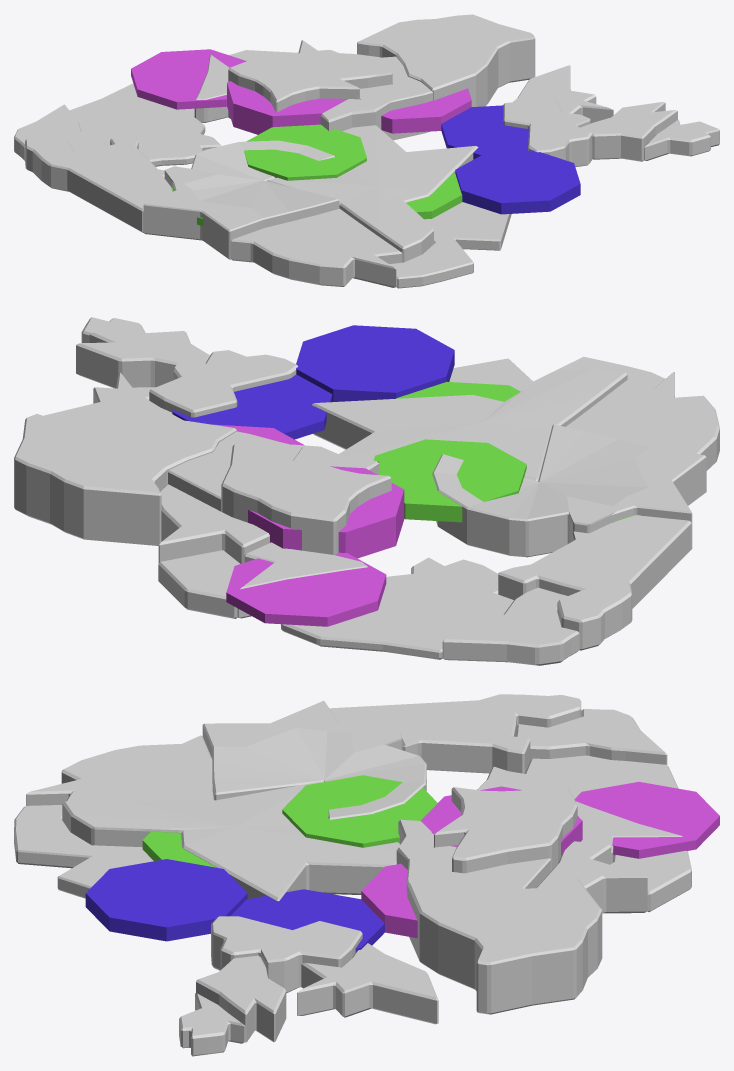
File: world_bev.glb
The picture shows the model from 3 angles, top to bottom: view 1: azimuth 30°, elevation 25°; view 2: azimuth 150°, elevation 25°; view 3: azimuth 270°, elevation 25°; orthographic projection. The views are drawn at different scales.
Visible parts, largest first — view 1: Plane.002, Plane.009, Plane.003, Plane.005, Plane.008, Cylinder.005, Plane.001, Plane.013, Plane.004, Cylinder.003, Cylinder.007, Plane.016 (+10 smaller); view 2: Plane.002, Plane.009, Plane.003, Plane.008, Plane.001, Plane.013, Cylinder.005, Cylinder.007, Plane.005, Cylinder.003, Plane.007, Plane.016 (+12 smaller); view 3: Plane.009, Plane.003, Plane.002, Plane.008, Cylinder.005, Plane.013, Plane.005, Plane.015, Plane.016, Cylinder.003, Cylinder.007, Plane.004 (+12 smaller).
Part boxes in pixels (left/top/right/bottom): Plane.002: left=143, top=140, right=339, bottom=259; Plane.009: left=357, top=14, right=535, bottom=106; Plane.003: left=266, top=125, right=478, bottom=262; Plane.005: left=230, top=208, right=402, bottom=287; Plane.008: left=25, top=135, right=172, bottom=232; Cylinder.005: left=455, top=150, right=580, bottom=214; Plane.001: left=69, top=83, right=221, bottom=166; Plane.013: left=228, top=50, right=392, bottom=118; Plane.004: left=389, top=202, right=511, bottom=288; Cylinder.003: left=244, top=124, right=366, bottom=180; Cylinder.007: left=131, top=49, right=246, bottom=109; Plane.016: left=503, top=99, right=592, bottom=167; Plane.002: left=432, top=424, right=706, bottom=557; Plane.009: left=14, top=413, right=236, bottom=545; Plane.003: left=311, top=369, right=627, bottom=481; Plane.008: left=498, top=515, right=691, bottom=650; Plane.001: left=281, top=557, right=513, bottom=659; Plane.013: left=221, top=440, right=391, bottom=554; Cylinder.005: left=296, top=325, right=454, bottom=401; Cylinder.007: left=226, top=552, right=386, bottom=626; Plane.005: left=566, top=372, right=719, bottom=470; Cylinder.003: left=373, top=439, right=526, bottom=522; Plane.007: left=442, top=587, right=579, bottom=665; Plane.016: left=149, top=350, right=298, bottom=417; Plane.009: left=407, top=878, right=602, bottom=1014; Plane.003: left=62, top=781, right=400, bottom=901; Plane.002: left=202, top=700, right=426, bottom=819; Plane.008: left=329, top=694, right=581, bottom=773; Cylinder.005: left=85, top=859, right=247, bottom=941; Plane.013: left=434, top=786, right=577, bottom=873; Plane.005: left=26, top=735, right=213, bottom=805; Plane.015: left=297, top=943, right=438, bottom=1024; Plane.016: left=211, top=916, right=362, bottom=993; Cylinder.003: left=282, top=775, right=437, bottom=847; Cylinder.007: left=574, top=781, right=719, bottom=858; Plane.004: left=14, top=805, right=153, bottom=898.
Bounding box in the file's own units: 34.93 × 3.11 × 31.2.
